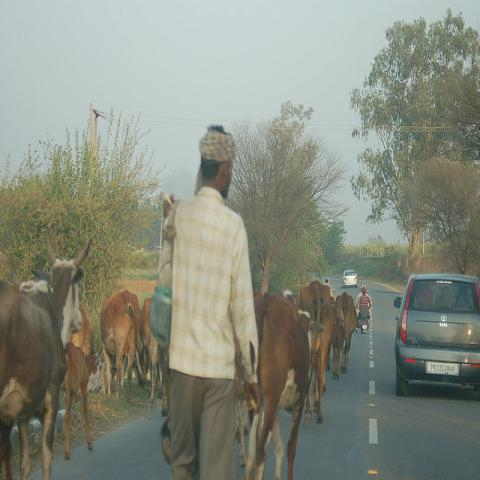car: (393, 274, 479, 398), (341, 270, 358, 288)
motorcycle: (360, 304, 370, 336)
